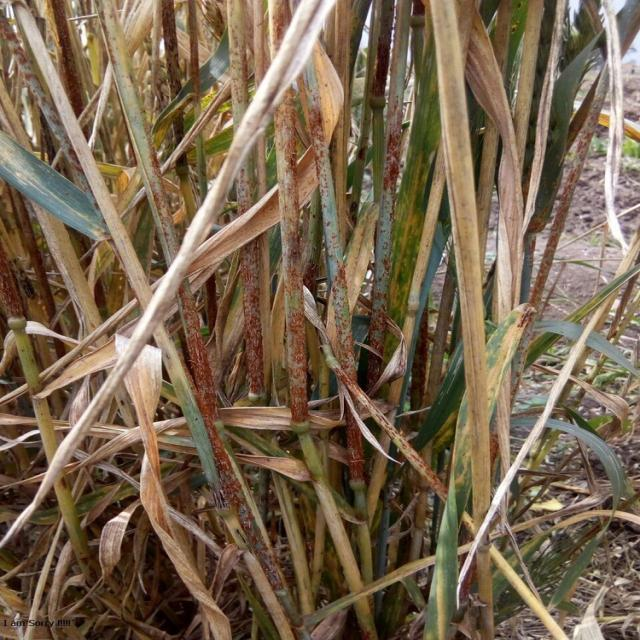wheat-stemrust: (358, 262, 400, 388), (378, 92, 404, 250), (288, 214, 307, 418), (280, 177, 294, 206)
